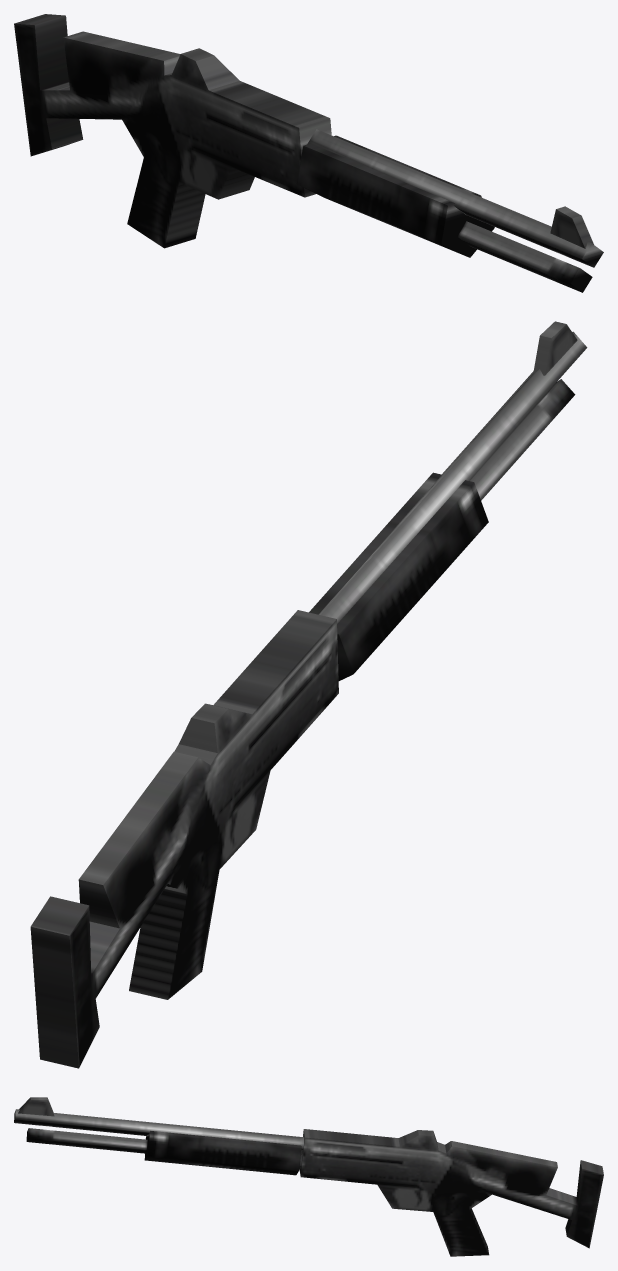
File: xm1014-world.glb
3 renders of one model, top to bottom at view 1: azimuth 30°, elevation 25°; view 2: azimuth 150°, elevation 25°; view 3: azimuth 270°, elevation 25°, orthographic. The views are drawn at different scales.
Visible parts, largest first — view 1: xm1014 held; view 2: xm1014 held; view 3: xm1014 held.
Boxes of the visible parts, box(x1,y1,x2,y2) form: xm1014 held: box(14, 14, 603, 292); xm1014 held: box(30, 321, 587, 1068); xm1014 held: box(14, 1097, 603, 1256).
Bounding box in the file's own units: 0.0843 × 0.258 × 0.8405.
Materials: 1 (1 with a texture image).
